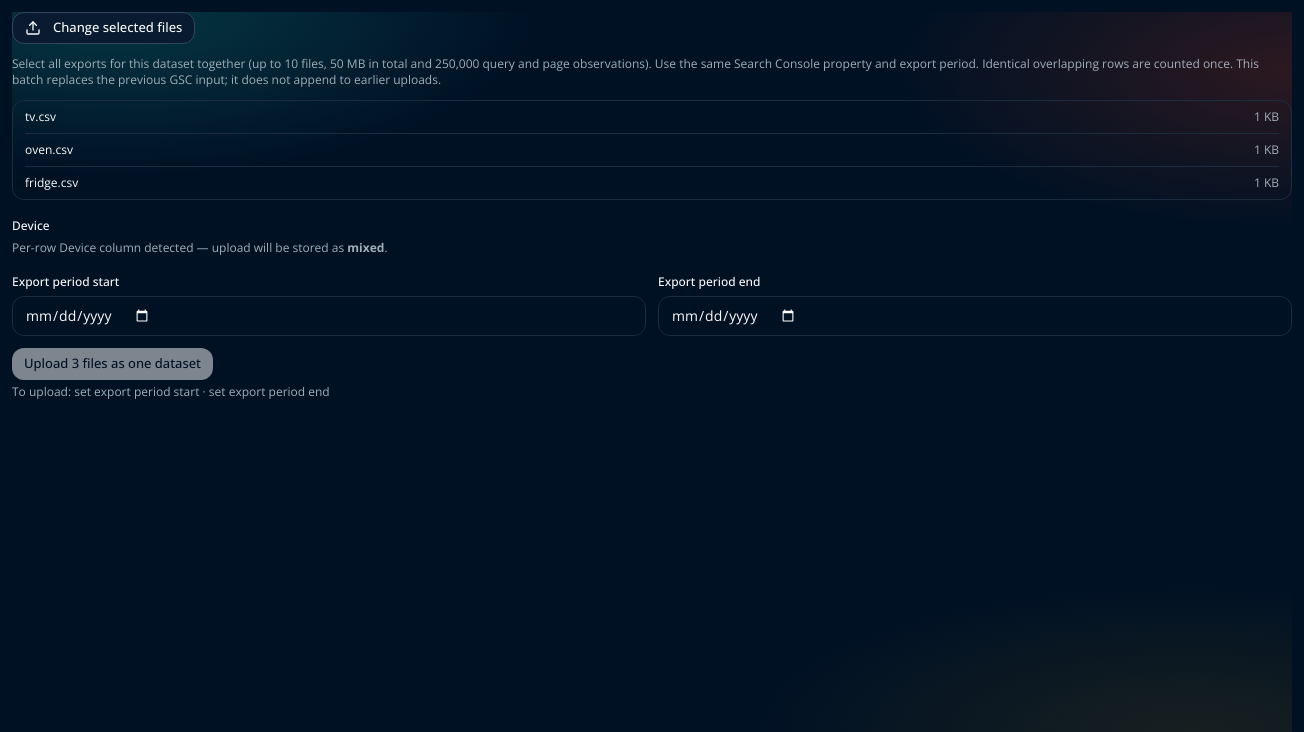
GSC upload selection › submits all selected CSV files in one request and shows their provenance
Earlier steps of the test are not shown.
Expected: the button "Upload 3 files as one dataset" is shown, [12, 348, 213, 380]
In the date field labelled "Export period start": coordinates (329, 316) [12, 296, 646, 336], type "2026-01-01"
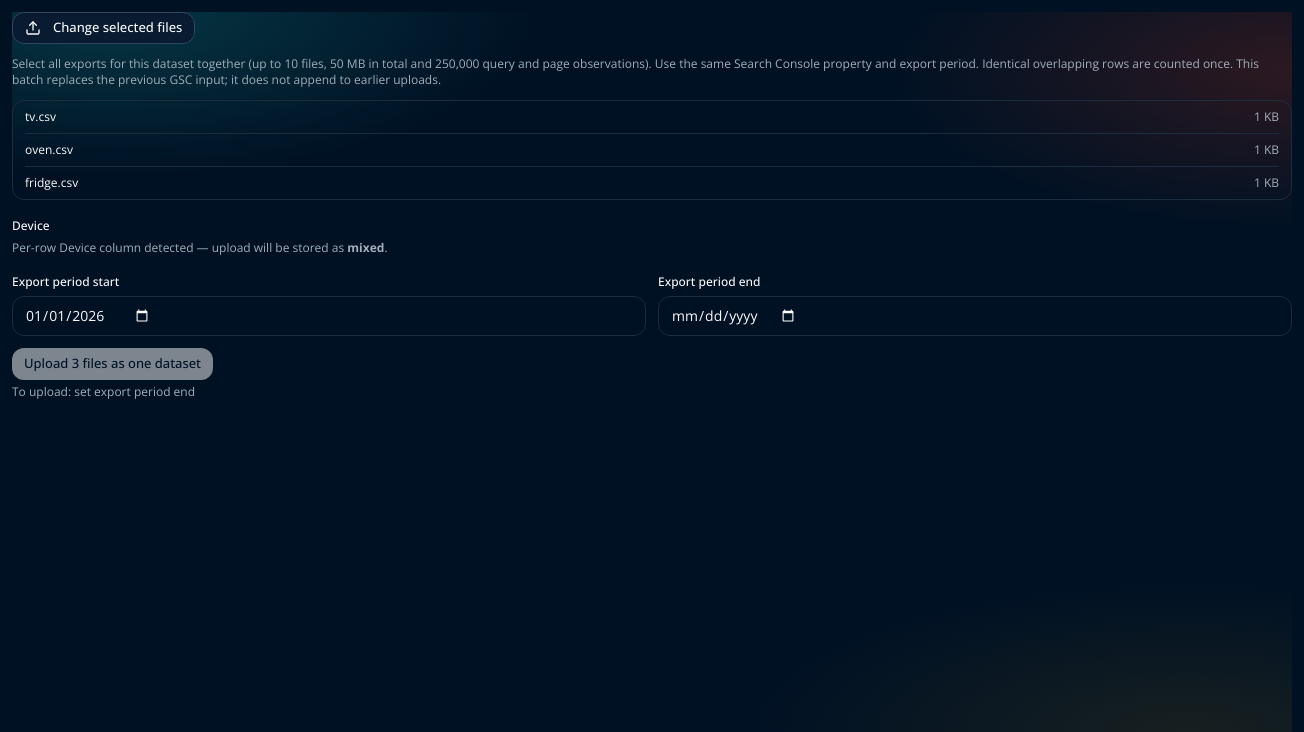
In the date field labelled "Export period end": coordinates (975, 316) [658, 296, 1292, 336], type "2026-04-01"
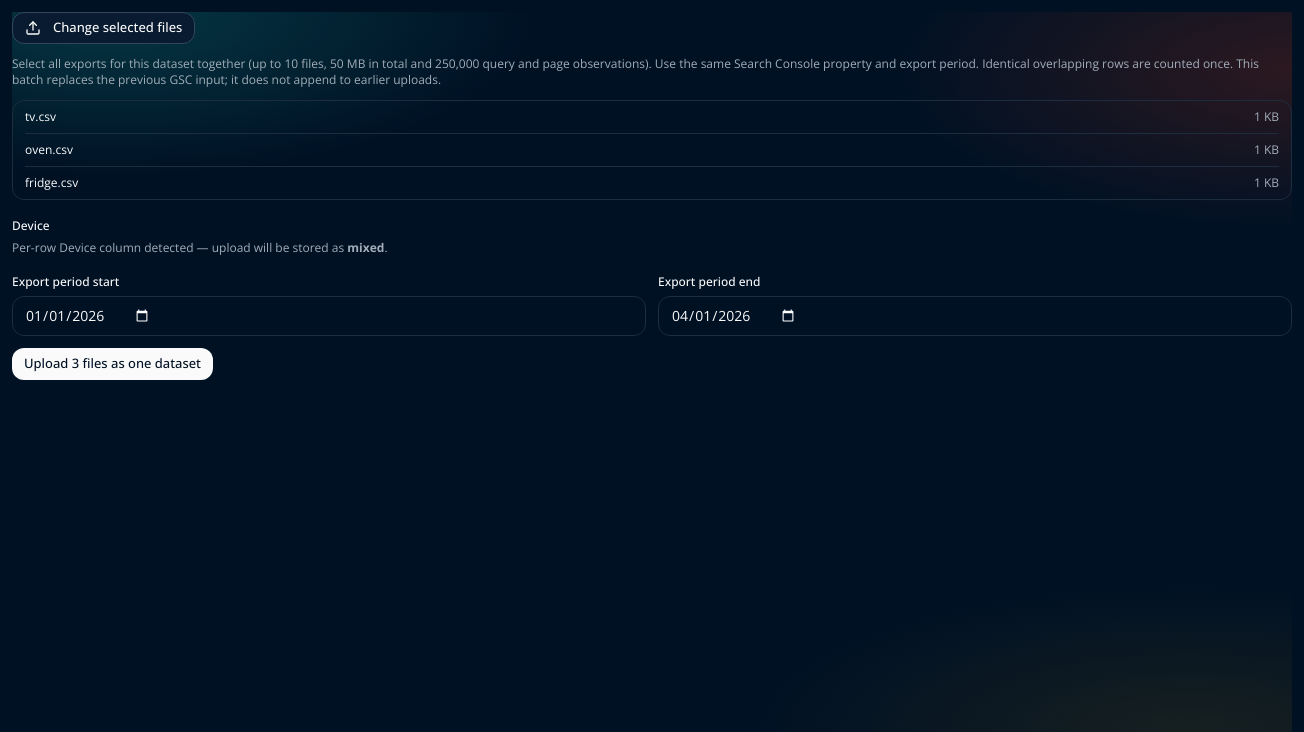
Click the button "Upload 3 files as one dataset": coordinates (112, 364) [12, 348, 213, 380]
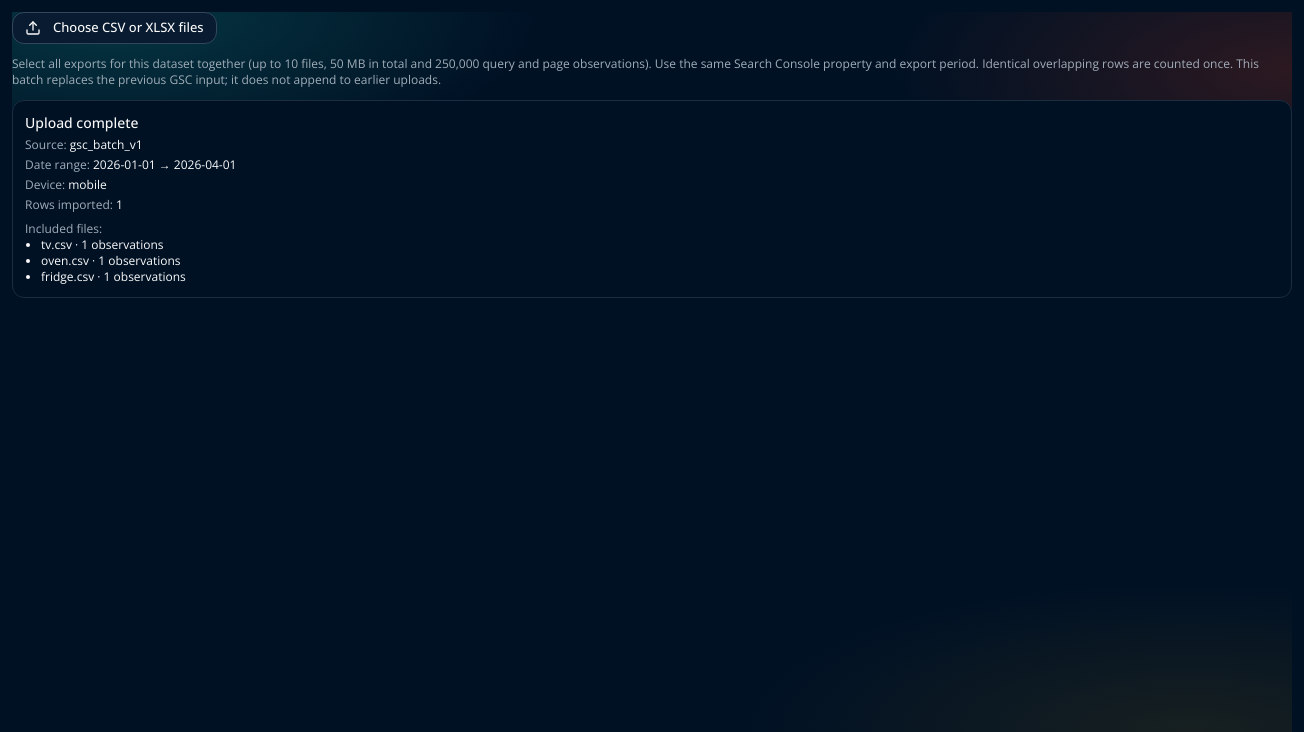
Expected: the text "Included files:" is shown, [25, 220, 102, 237]
Expected: the text "Upload complete" is shown, [25, 113, 138, 132]
